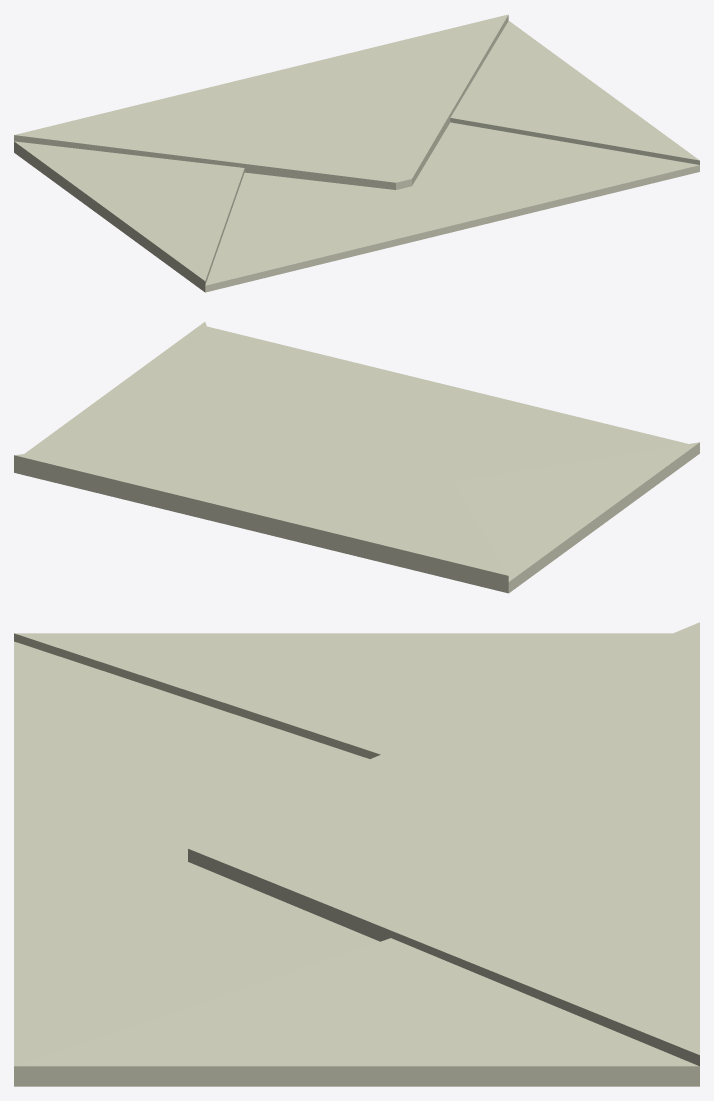
File: mail.glb
3 views of the same model, one above another, from view 1: azimuth 30°, elevation 25°; view 2: azimuth 150°, elevation 25°; view 3: azimuth 270°, elevation 25° (orthographic). The views are drawn at different scales.
Parts seen in each view (by area): view 1: mail.001; view 2: mail.001; view 3: mail.001.
Part boxes in pixels (x1,y1,x2,y2): mail.001: (14,14,699,292); mail.001: (14,322,699,593); mail.001: (14,622,699,1086).
Size of the model in its own units: 11.35 by 0.3853 by 7.6.
